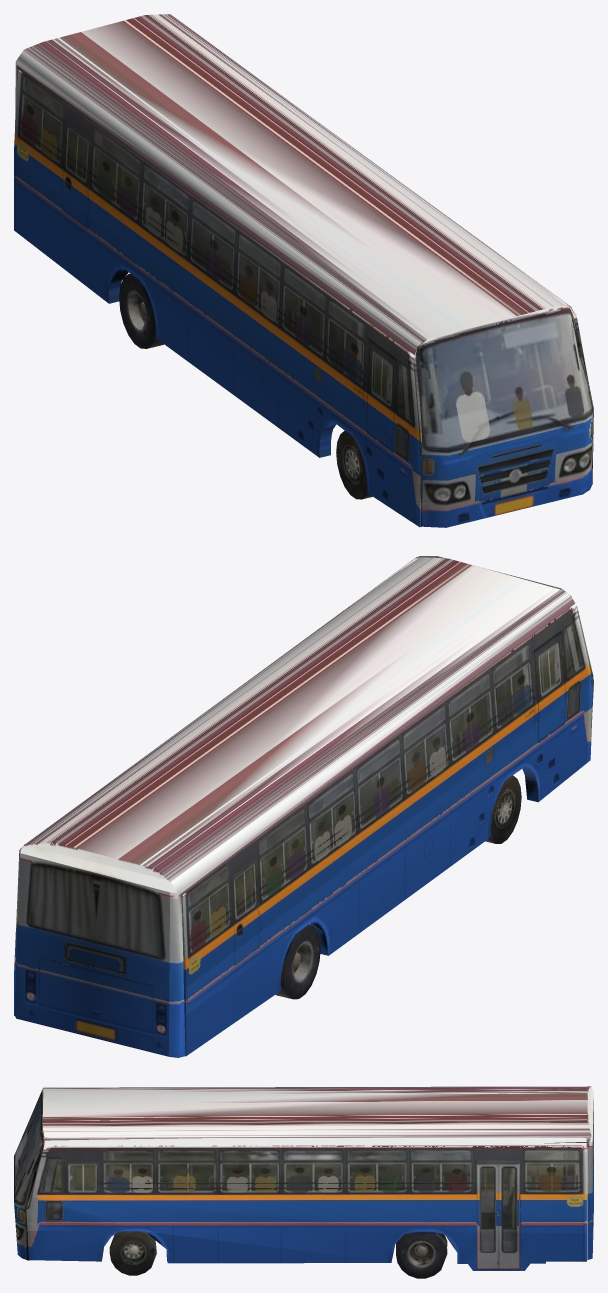
The model's file is privatebus-real.glb.
The picture shows the model from 3 angles, top to bottom: view 1: azimuth 30°, elevation 25°; view 2: azimuth 150°, elevation 25°; view 3: azimuth 270°, elevation 25°; orthographic projection. The views are drawn at different scales.
Visible parts, largest first — view 1: Object_6, Object_10; view 2: Object_6, Object_10; view 3: Object_6, Object_10.
Part boxes in pixels (box(x1,y1,x2,y2)): Object_6: box(14, 14, 593, 527); Object_10: box(119, 273, 425, 499); Object_6: box(14, 556, 593, 1057); Object_10: box(275, 775, 521, 999); Object_6: box(14, 1086, 593, 1270); Object_10: box(109, 1231, 447, 1278).
Bounding box in the file's own units: 0.2306 × 0.2689 × 0.9676.
3 materials, 2 textured.
